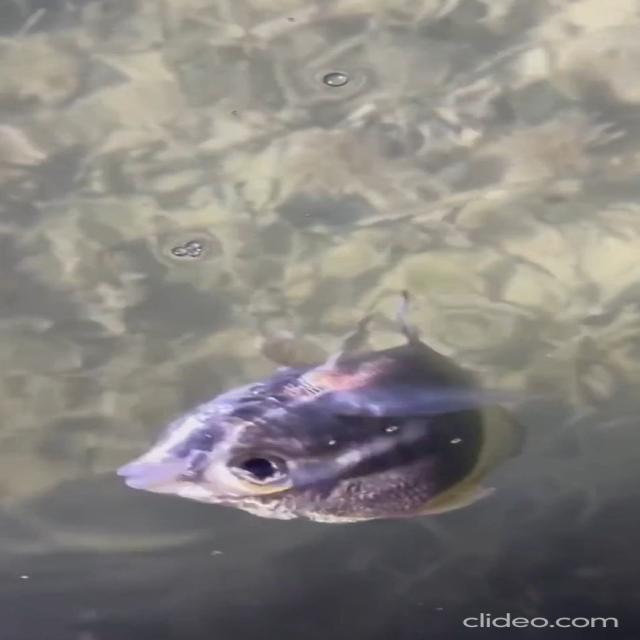fish: (97, 308, 565, 545)
